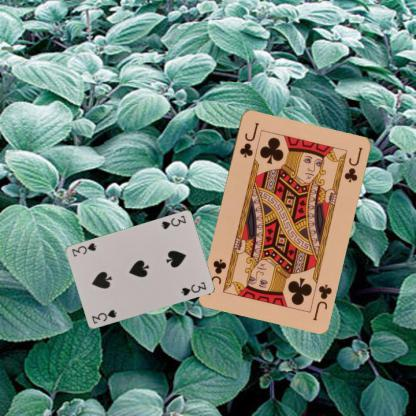3s: (158, 212, 188, 231), (89, 308, 118, 326)
Jc: (237, 119, 260, 159), (310, 281, 332, 322)
